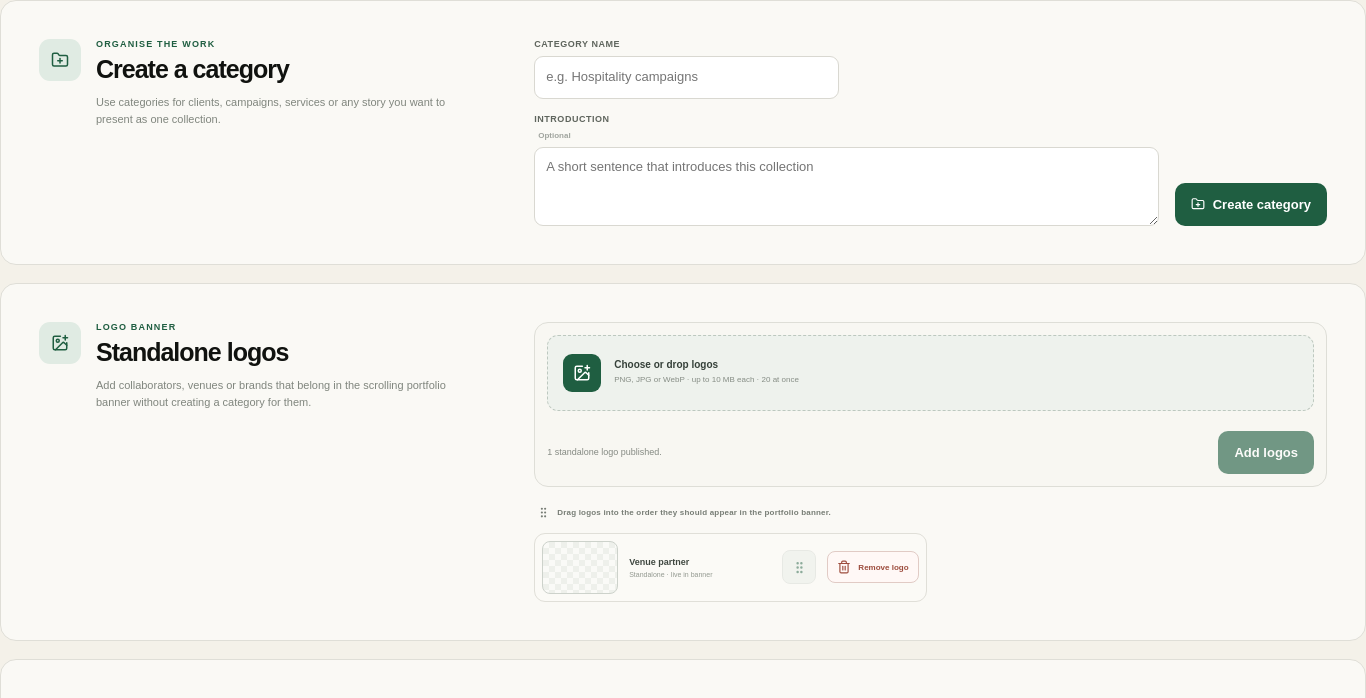
Scenario: PortfolioManager media removal › shows standalone logos separately and requires confirmation before removing one
Click the button "Remove logo" at (873, 567), box [827, 551, 919, 583]
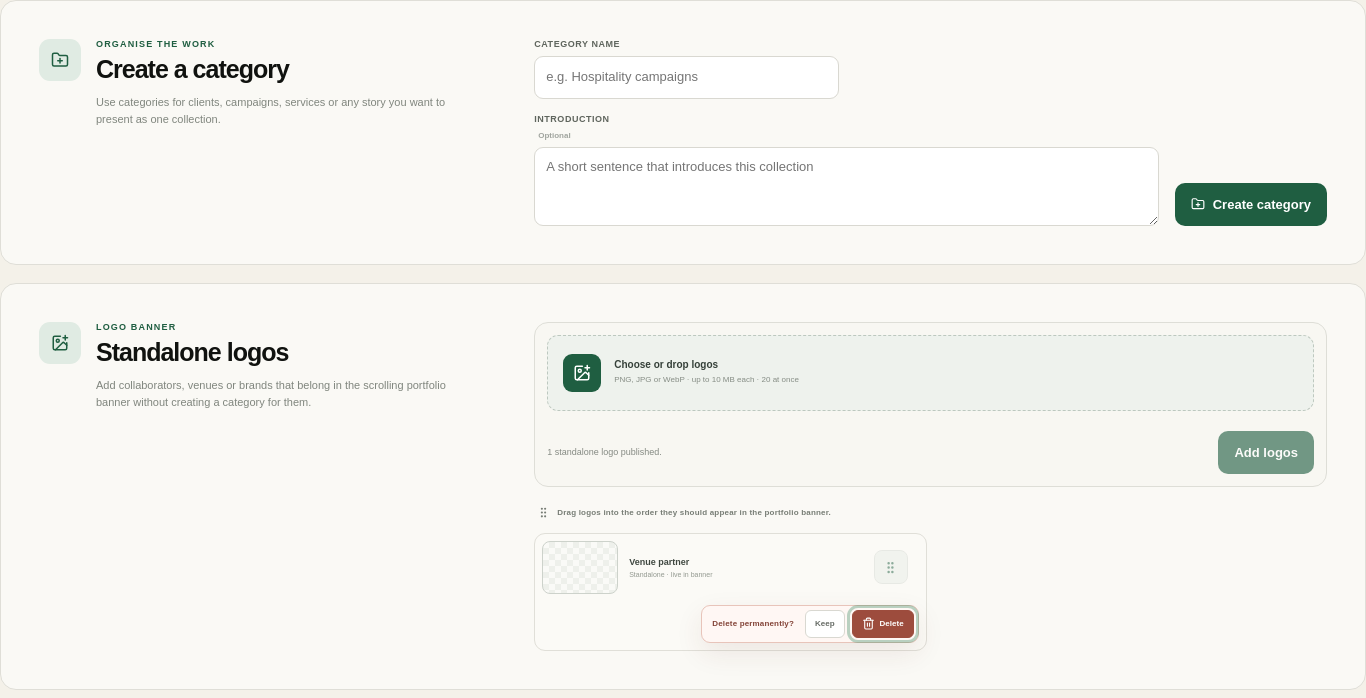
Result: the text "Delete permanently?" is shown at [712, 619, 794, 628]
Click the button "Delete" at (883, 624), box [852, 610, 914, 638]
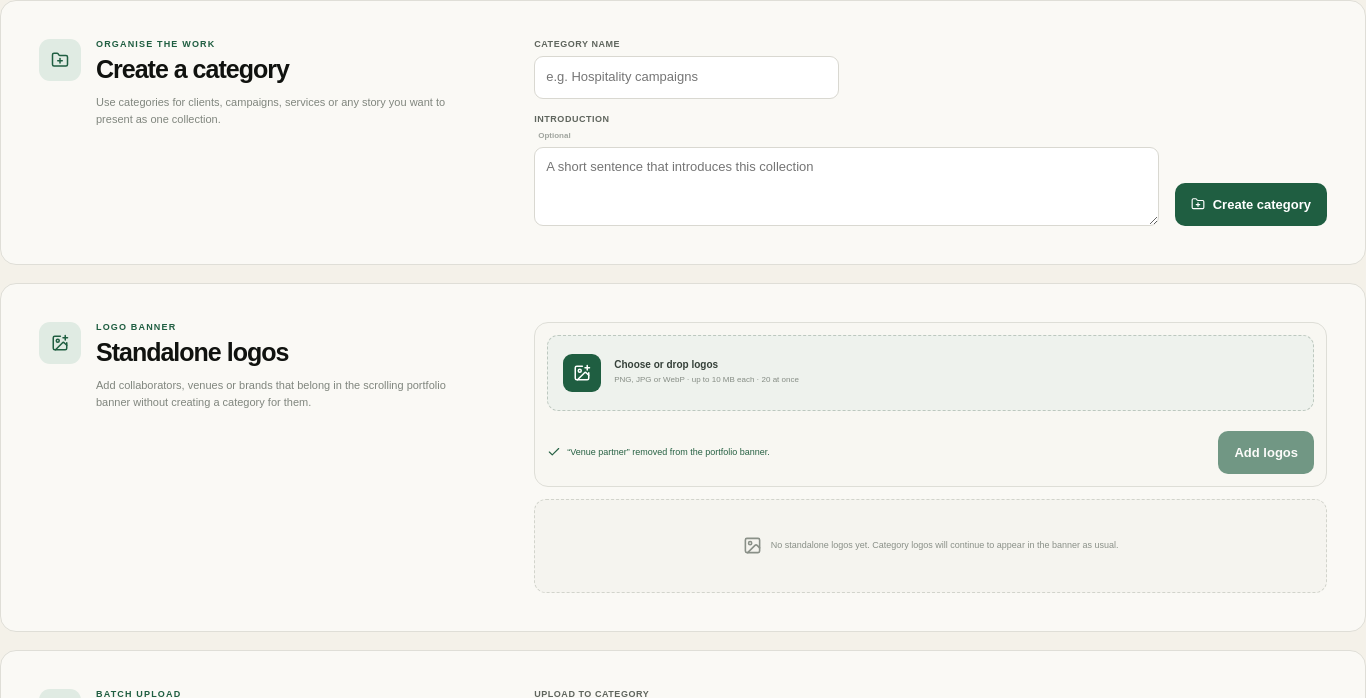
Result: the text "“Venue partner” removed from the portfolio banner." is shown at [547, 443, 770, 461]
